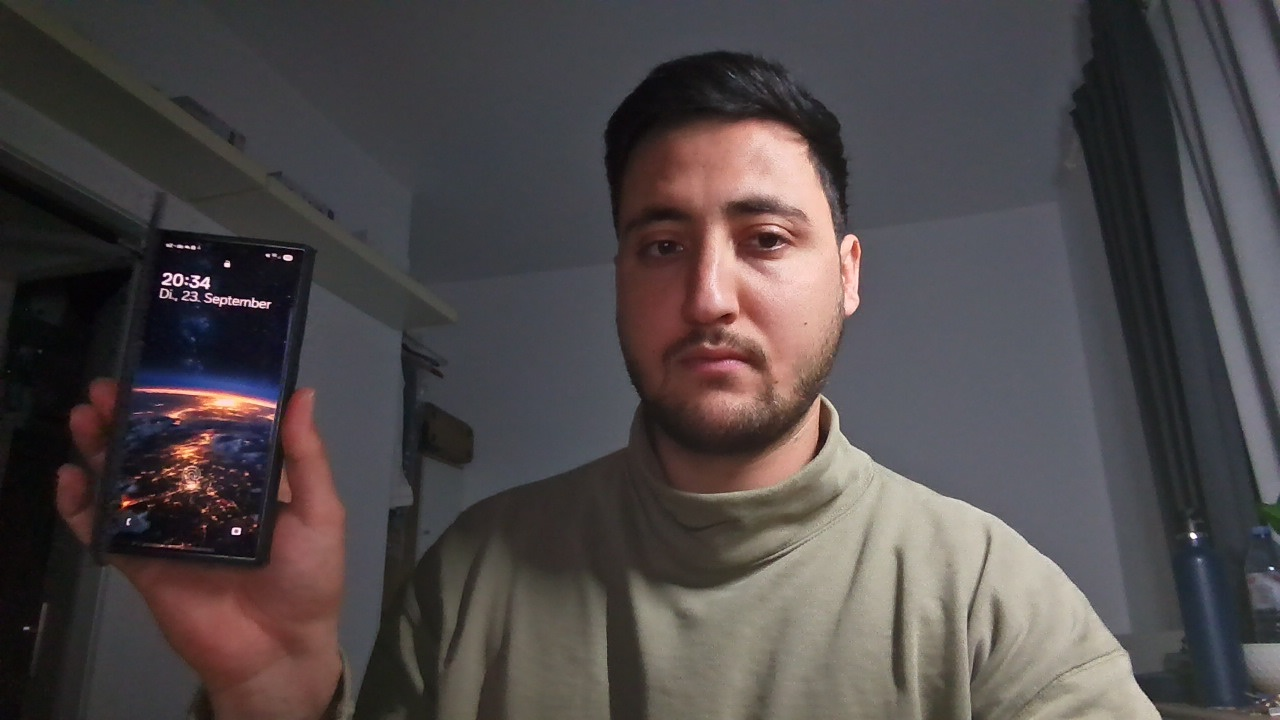Handy: (51, 208, 345, 588)
Wasserflasche: (1148, 501, 1262, 716)
me: (587, 24, 875, 485)
